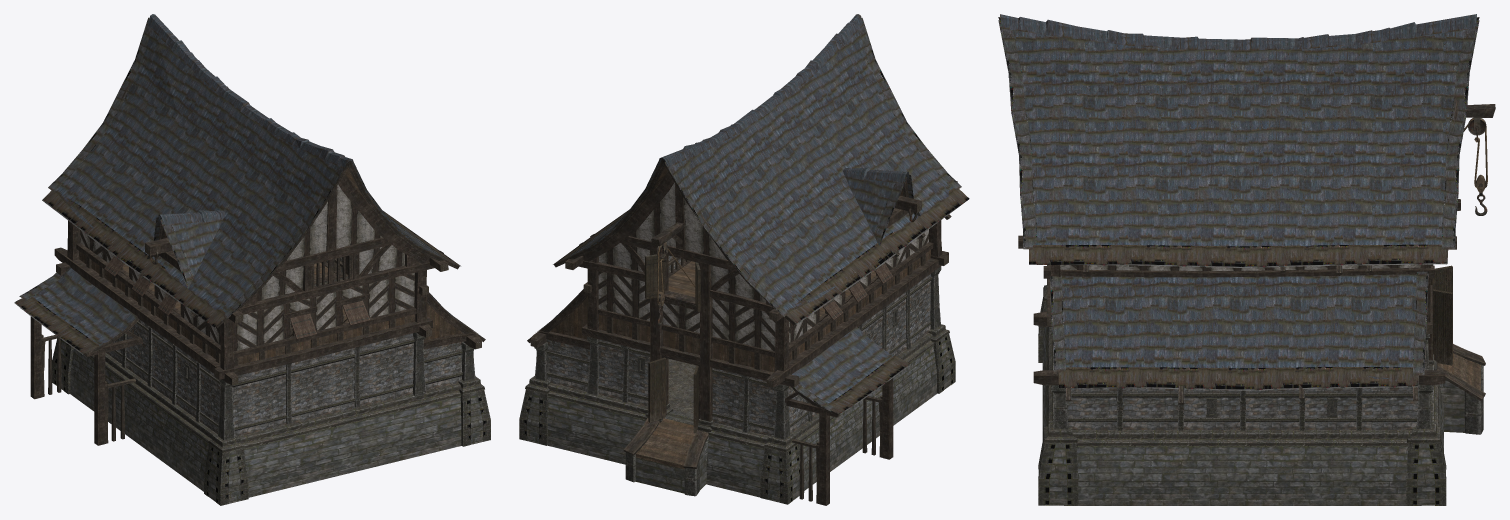
Rendered from eso_gu7_Barn-transformed.glb.
3 views of the same model, side by side, from view 1: azimuth 30°, elevation 25°; view 2: azimuth 150°, elevation 25°; view 3: azimuth 270°, elevation 25° (orthographic). The views are drawn at different scales.
Visible parts, largest first — view 1: default; view 2: default; view 3: default.
Part boxes in pixels (left/top/right/bottom): default: left=14, top=14, right=490, bottom=505; default: left=519, top=14, right=969, bottom=505; default: left=998, top=14, right=1495, bottom=505.
Bounding box in the file's own units: 28.51 × 27.77 × 31.24.
12 materials, 12 textured.
